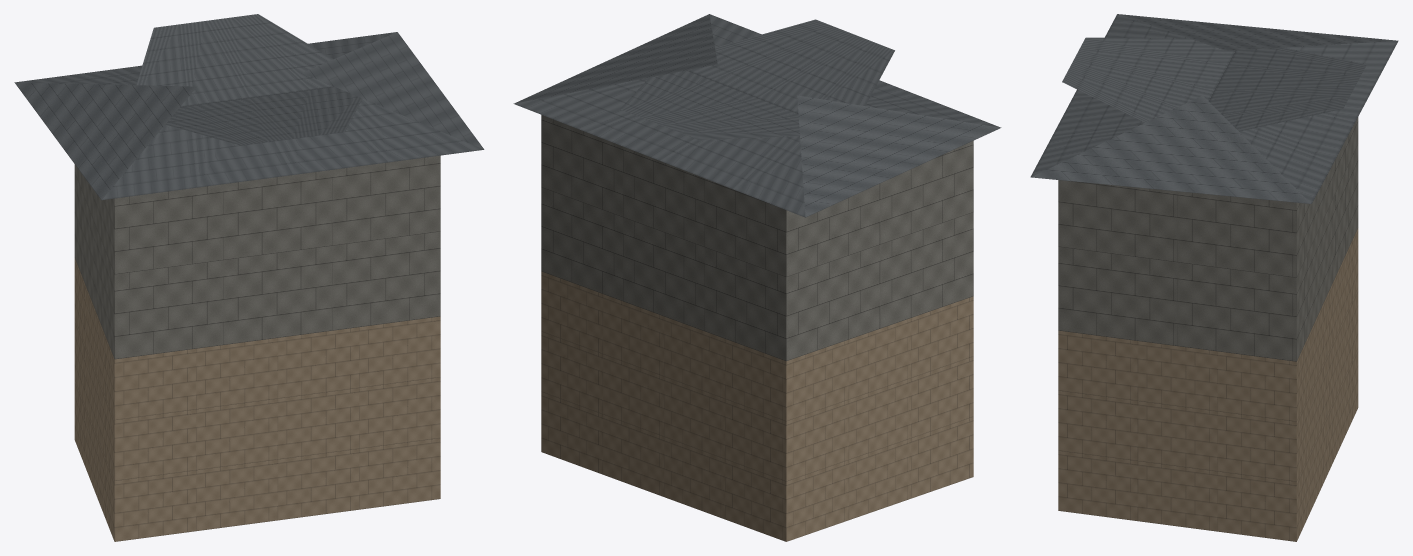
The model's file is bld_c21_-43_573.gltf.
The picture shows the model from 3 angles, left to right: view 1: azimuth 30°, elevation 25°; view 2: azimuth 150°, elevation 25°; view 3: azimuth 270°, elevation 25°; orthographic projection.
Parts seen in each view (by area): view 1: bld_c21_-43_573; view 2: bld_c21_-43_573; view 3: bld_c21_-43_573.
Part boxes in pixels (bbox=[...]): bld_c21_-43_573: bbox=[14, 14, 484, 541]; bld_c21_-43_573: bbox=[513, 14, 1001, 541]; bld_c21_-43_573: bbox=[1030, 14, 1398, 541].
Size of the model in its own units: 11.37 by 10.7 by 9.31.
3 materials, 3 textured.
